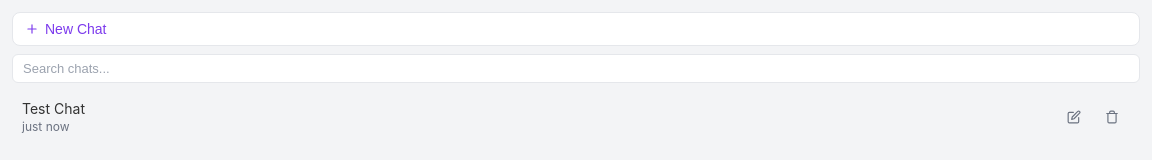
Test: AiChatHistory › shows "No matching chats" when search has no results
Type "zzzzz" into the field with placeholder "Search chats..." at (576, 68), box [12,54,1140,83]
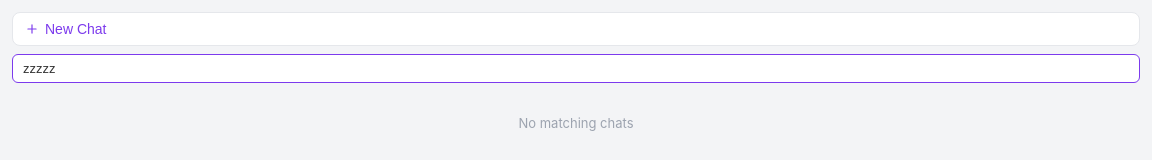
Expected: the text "No matching chats" is shown, [518,115,634,131]
